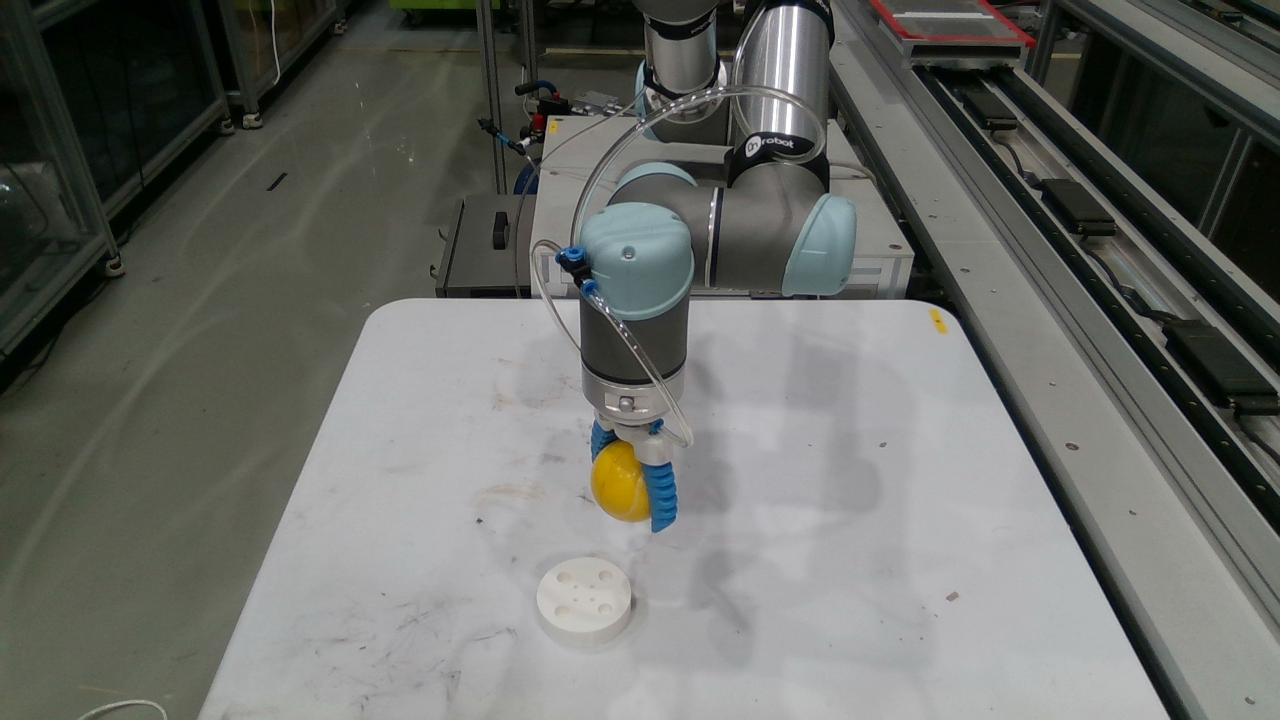UR5: (580, 0, 857, 466)
gripper_left: (590, 419, 618, 462)
gripper_right: (642, 463, 678, 532)
target: (535, 557, 634, 648), (590, 440, 650, 521)
